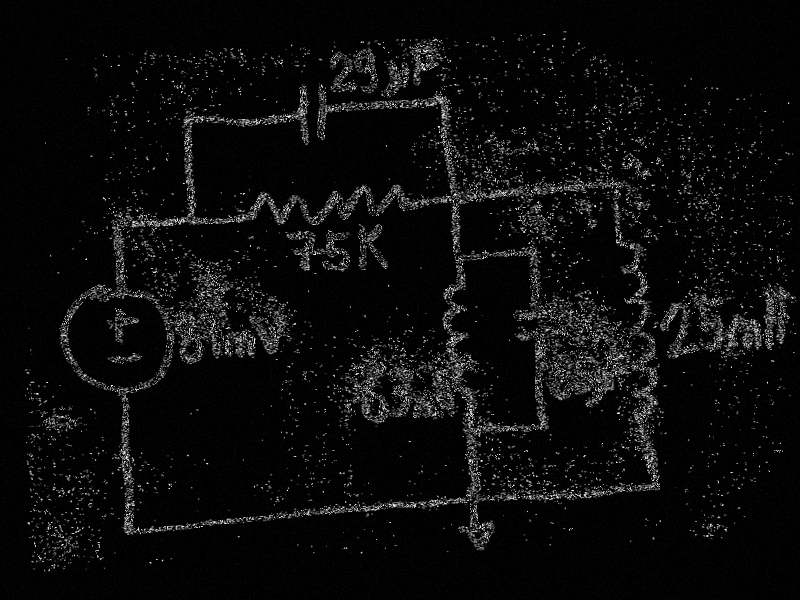-: (103, 351, 143, 366)
2: (659, 298, 700, 363), (325, 50, 358, 96)
3: (388, 368, 416, 421)
5: (695, 293, 726, 356), (323, 228, 353, 277), (573, 355, 594, 396)
6: (358, 358, 390, 426)
7: (281, 227, 325, 280)
8: (173, 312, 206, 371), (547, 350, 575, 402)
9: (354, 45, 384, 96)
F: (410, 44, 440, 87), (605, 353, 626, 394)
H: (762, 287, 787, 350), (433, 383, 456, 419)
V: (256, 311, 291, 356)
k: (353, 219, 392, 276)
m: (724, 312, 764, 357), (209, 327, 258, 361), (410, 397, 438, 419)
u: (384, 60, 412, 98), (591, 368, 608, 406)
